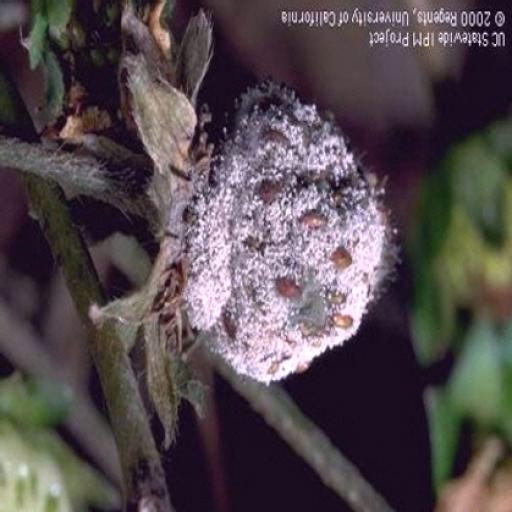Gray Mold: (165, 128, 402, 435)
